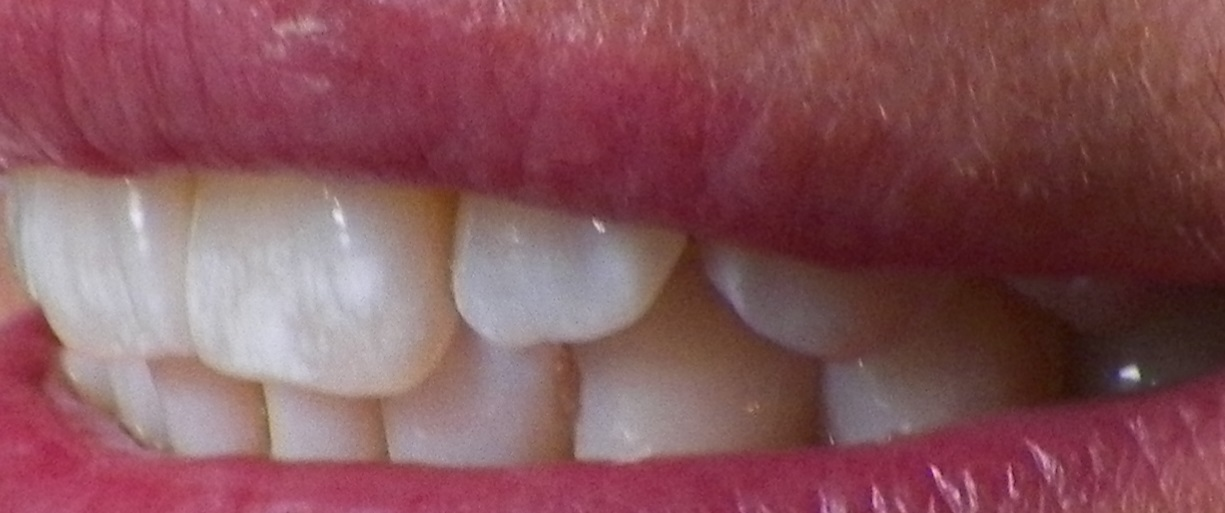boca: (16, 169, 1099, 455)
